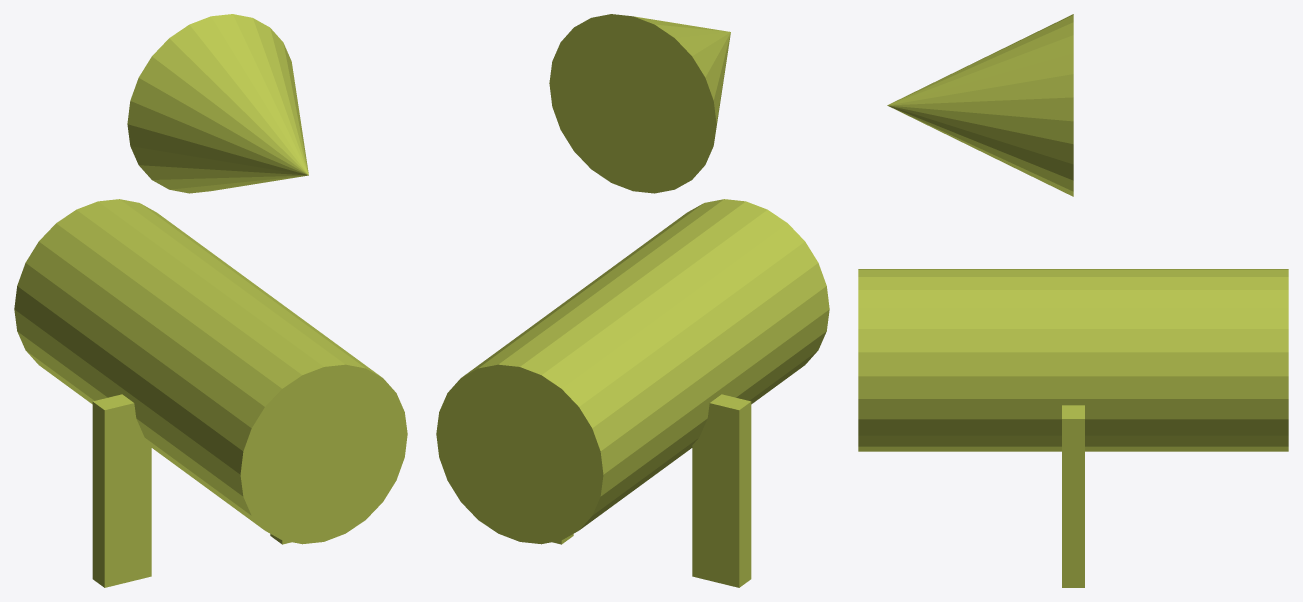
Rendered from tech_121.glb.
3 views of the same model, side by side, from view 1: azimuth 30°, elevation 25°; view 2: azimuth 150°, elevation 25°; view 3: azimuth 270°, elevation 25° (orthographic). The views are drawn at different scales.
Parts seen in each view (by area): view 1: world; view 2: world; view 3: world.
Part boxes in pixels (x1=…): world: x1=14, y1=14, x2=407, y2=587; world: x1=436, y1=14, x2=829, y2=587; world: x1=858, y1=14, x2=1288, y2=587.
Size of the model in its own units: 0.86 by 1.97 by 1.5.
